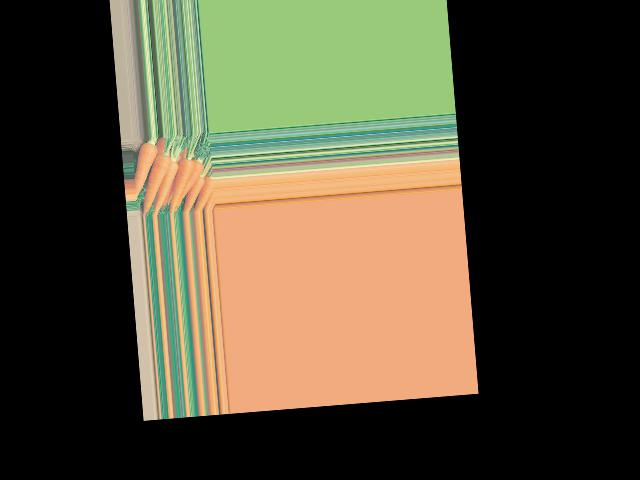carrot: (182, 172, 209, 211)
